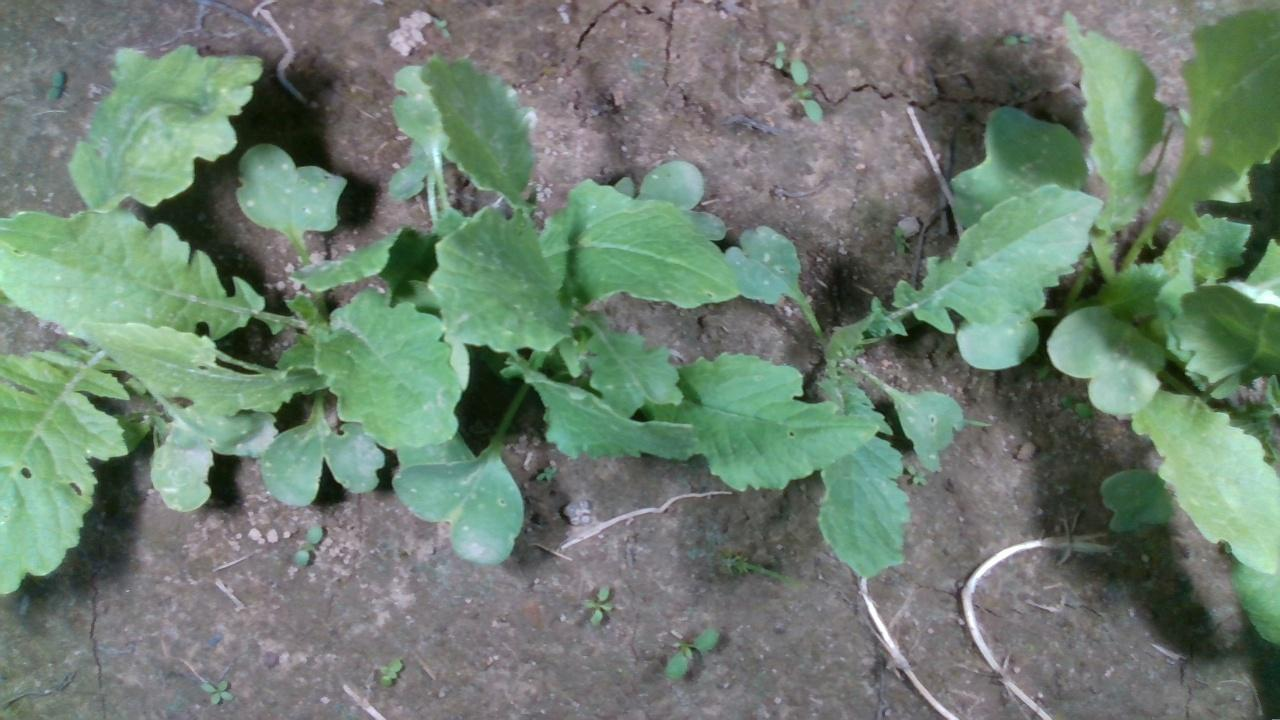weed: (661, 626, 720, 684), (789, 55, 824, 123), (581, 580, 613, 626), (291, 521, 323, 566), (373, 655, 404, 689), (198, 678, 235, 706), (42, 65, 67, 103), (429, 13, 449, 41), (770, 37, 787, 69)
